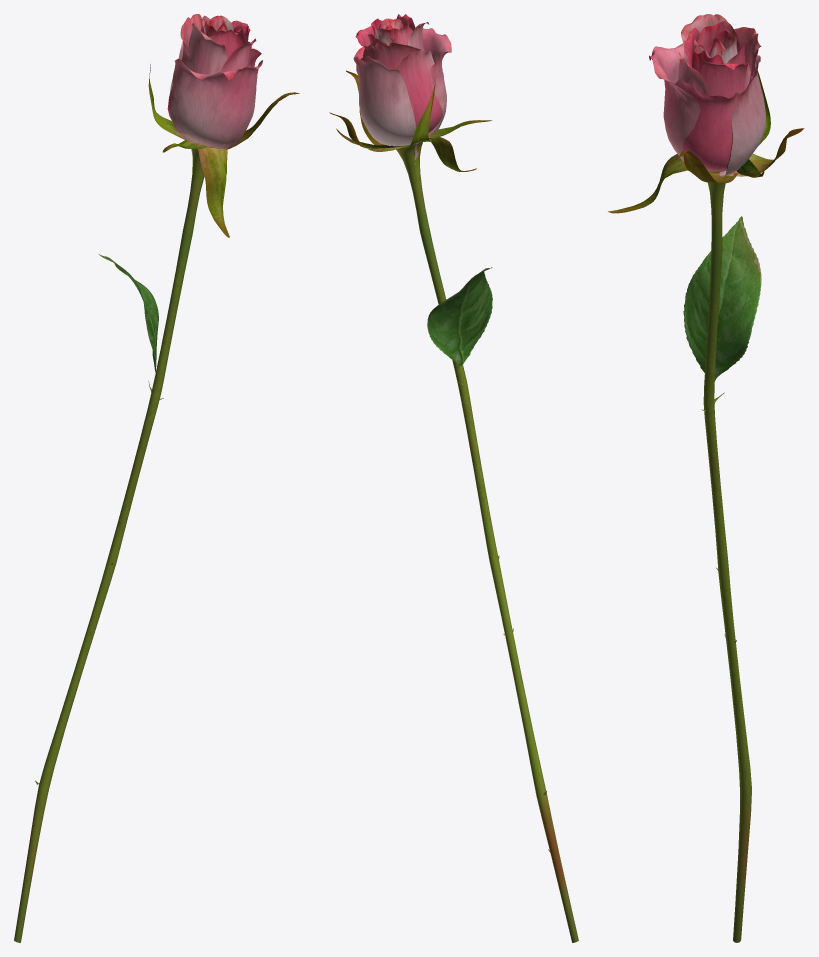
The picture shows the model from 3 angles, left to right: view 1: azimuth 30°, elevation 25°; view 2: azimuth 150°, elevation 25°; view 3: azimuth 270°, elevation 25°; orthographic projection. The views are drawn at different scales.
Parts seen in each view (by area): view 1: AM108_068_12_AM108_068_03_0; view 2: AM108_068_12_AM108_068_03_0; view 3: AM108_068_12_AM108_068_03_0.
Part boxes in pixels (<box>): AM108_068_12_AM108_068_03_0: <box>14,14,299,942</box>; AM108_068_12_AM108_068_03_0: <box>329,14,578,942</box>; AM108_068_12_AM108_068_03_0: <box>608,14,804,942</box>.
Bounding box in the file's own units: 5.49 × 17.74 × 3.11.
1 material, 1 textured.
